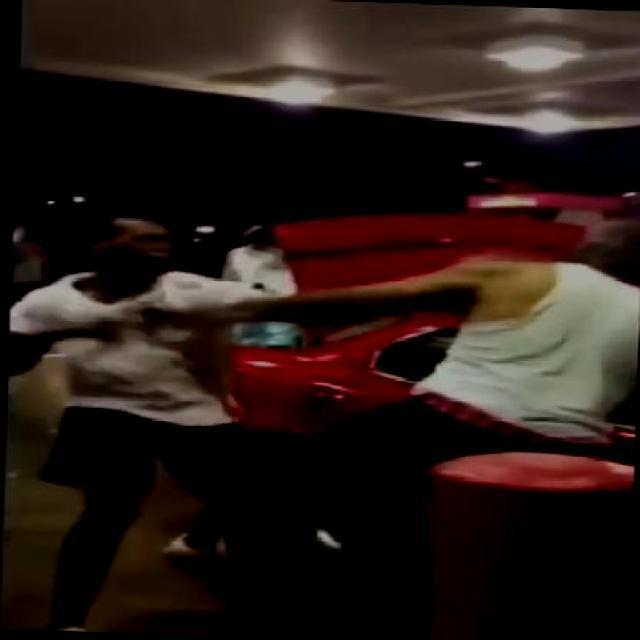fight: (32, 195, 638, 496)
